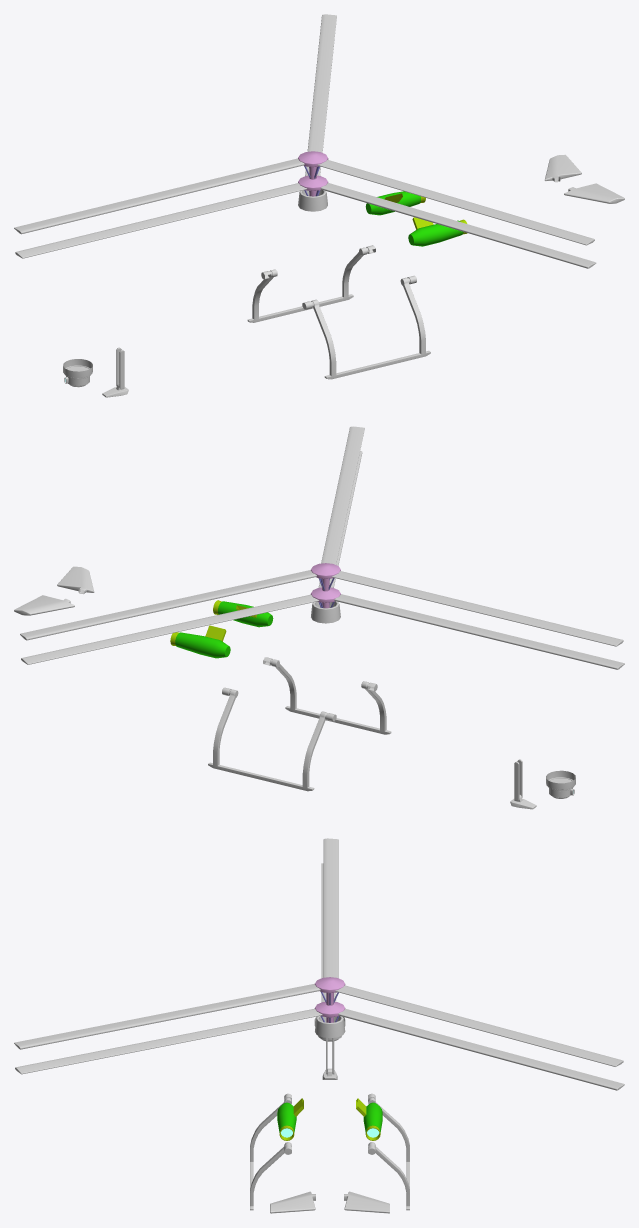
Rendered from ScoutHeli.fbx.
The picture shows the model from 3 angles, top to bottom: view 1: azimuth 30°, elevation 25°; view 2: azimuth 150°, elevation 25°; view 3: azimuth 270°, elevation 25°; orthographic projection.
Visible parts, largest first — view 1: Blades, LandingGearSide, Thrusters, TailWings, BladeHolder, BladeHolderRoot; view 2: Blades, LandingGearSide, Thrusters, TailWings, BladeHolder, BladeHolderRoot; view 3: Blades, LandingGearSide, Thrusters, TailWings, BladeHolder, BladeHolderRoot.
Part boxes in pixels (x1=…): Blades: x1=14, y1=14, x2=596, y2=268; LandingGearSide: x1=247, y1=247, x2=430, y2=379; Thrusters: x1=365, y1=191, x2=467, y2=246; TailWings: x1=544, y1=154, x2=624, y2=203; BladeHolder: x1=298, y1=151, x2=328, y2=196; BladeHolderRoot: x1=298, y1=190, x2=327, y2=211; Blades: x1=20, y1=426, x2=624, y2=669; LandingGearSide: x1=208, y1=659, x2=391, y2=791; Thrusters: x1=170, y1=600, x2=273, y2=658; TailWings: x1=14, y1=566, x2=94, y2=615; BladeHolder: x1=310, y1=563, x2=340, y2=608; BladeHolderRoot: x1=311, y1=601, x2=340, y2=623; Blades: x1=14, y1=838, x2=624, y2=1090; LandingGearSide: x1=250, y1=1097, x2=409, y2=1210; Thrusters: x1=277, y1=1098, x2=382, y2=1140; TailWings: x1=270, y1=1191, x2=389, y2=1213; BladeHolder: x1=314, y1=977, x2=345, y2=1022; BladeHolderRoot: x1=315, y1=1016, x2=345, y2=1038.
Bounding box in the file's own units: 1769 × 560 × 1602.
